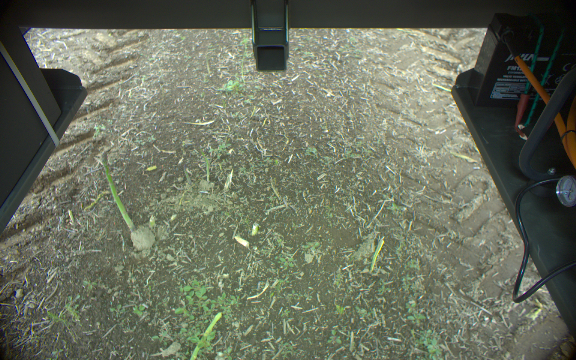aspa: (95, 153, 136, 236), (184, 308, 226, 360), (366, 234, 390, 278)
